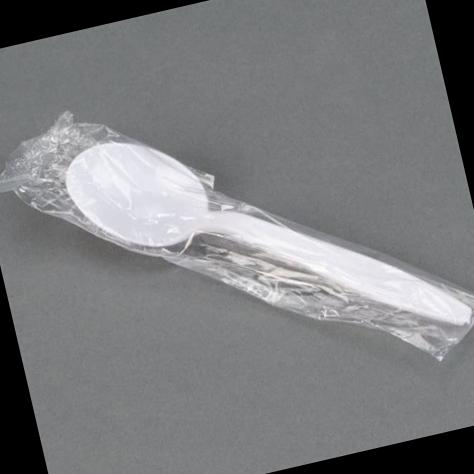Plastik: (66, 143, 471, 325)
